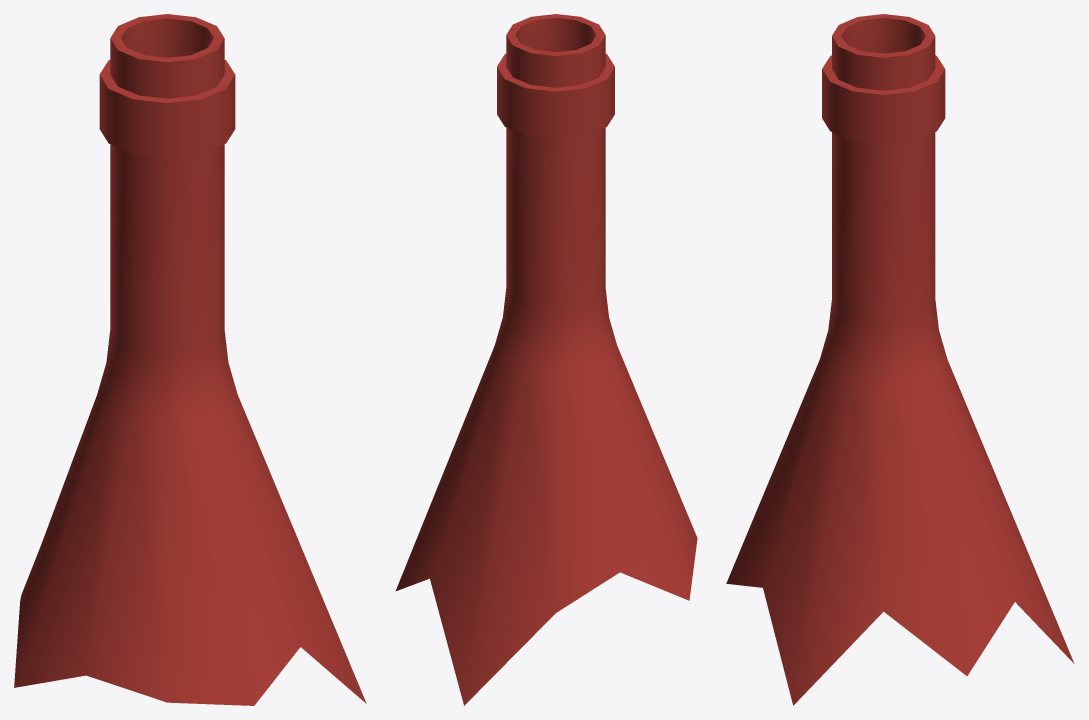
File: WineBottleBroken.fbx
The picture shows the model from 3 angles, left to right: view 1: azimuth 30°, elevation 25°; view 2: azimuth 150°, elevation 25°; view 3: azimuth 270°, elevation 25°; orthographic projection. The views are drawn at different scales.
Parts seen in each view (by area): view 1: WineBottleBroken; view 2: WineBottleBroken; view 3: WineBottleBroken.
Boxes of the visible parts, <box> form: WineBottleBroken: <box>14,14,366,705</box>; WineBottleBroken: <box>395,14,697,705</box>; WineBottleBroken: <box>726,14,1074,705</box>.
Bounding box in the file's own units: 0.0694 × 0.1518 × 0.0763.
